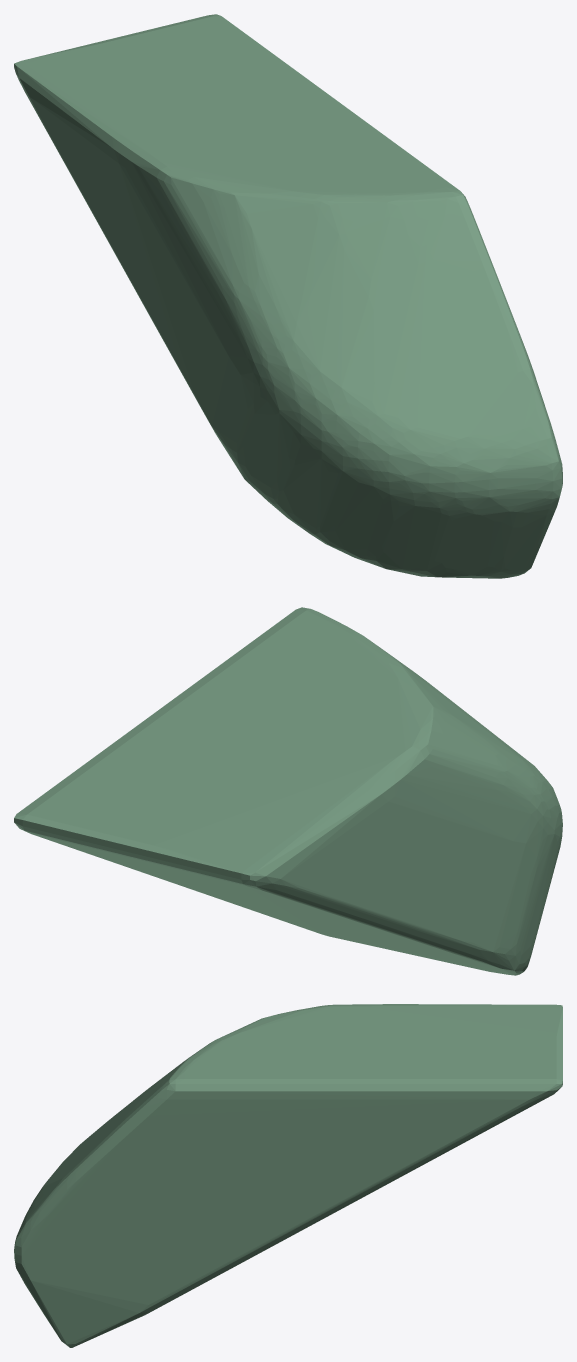
Rendered from right-toe-roll-0_part_0.obj.
3 renders of one model, top to bottom at view 1: azimuth 30°, elevation 25°; view 2: azimuth 150°, elevation 25°; view 3: azimuth 270°, elevation 25°, orthographic. The views are drawn at different scales.
Bounding box in the file's own units: 0.0219 × 0.0325 × 0.0606.
